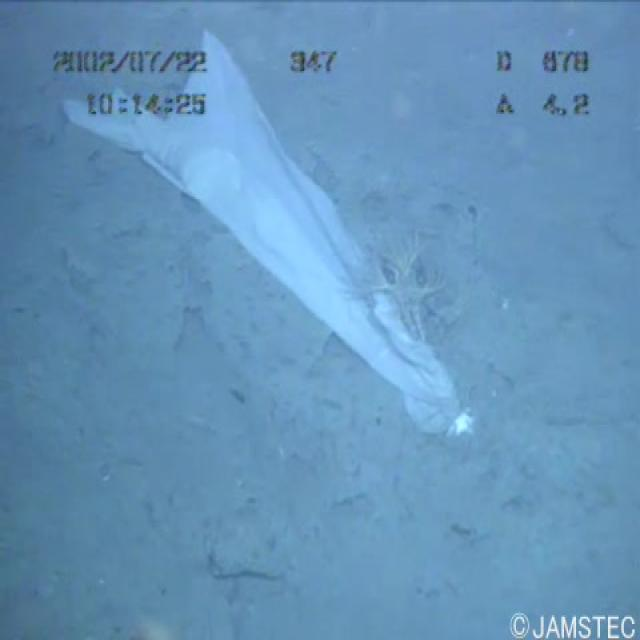plastic: (40, 23, 485, 455)
